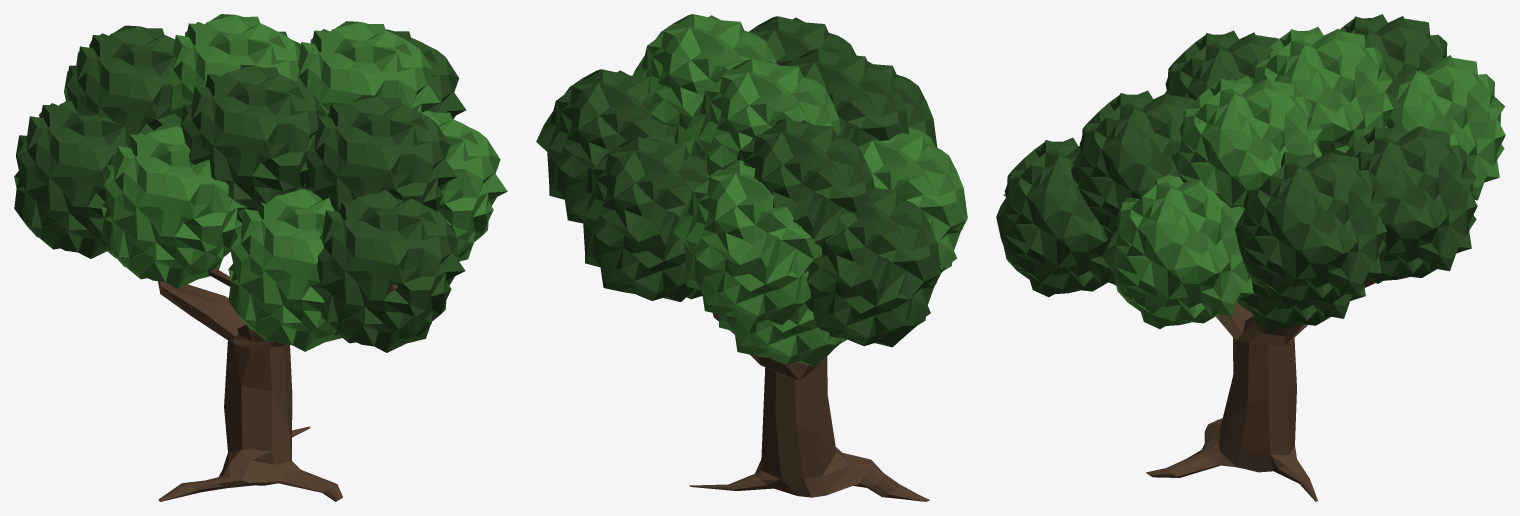
Rendered from grass 2.fbx.
3 views of the same model, side by side, from view 1: azimuth 30°, elevation 25°; view 2: azimuth 150°, elevation 25°; view 3: azimuth 270°, elevation 25° (orthographic). The views are drawn at different scales.
Parts seen in each view (by area): view 1: LowPoly Tree .026; view 2: LowPoly Tree .026; view 3: LowPoly Tree .026.
Part boxes in pixels (x1,y1,x2,y2): LowPoly Tree .026: [14, 14, 507, 501]; LowPoly Tree .026: [536, 14, 967, 501]; LowPoly Tree .026: [996, 14, 1505, 501].
Bounding box in the file's own units: 227 × 228 × 244.
